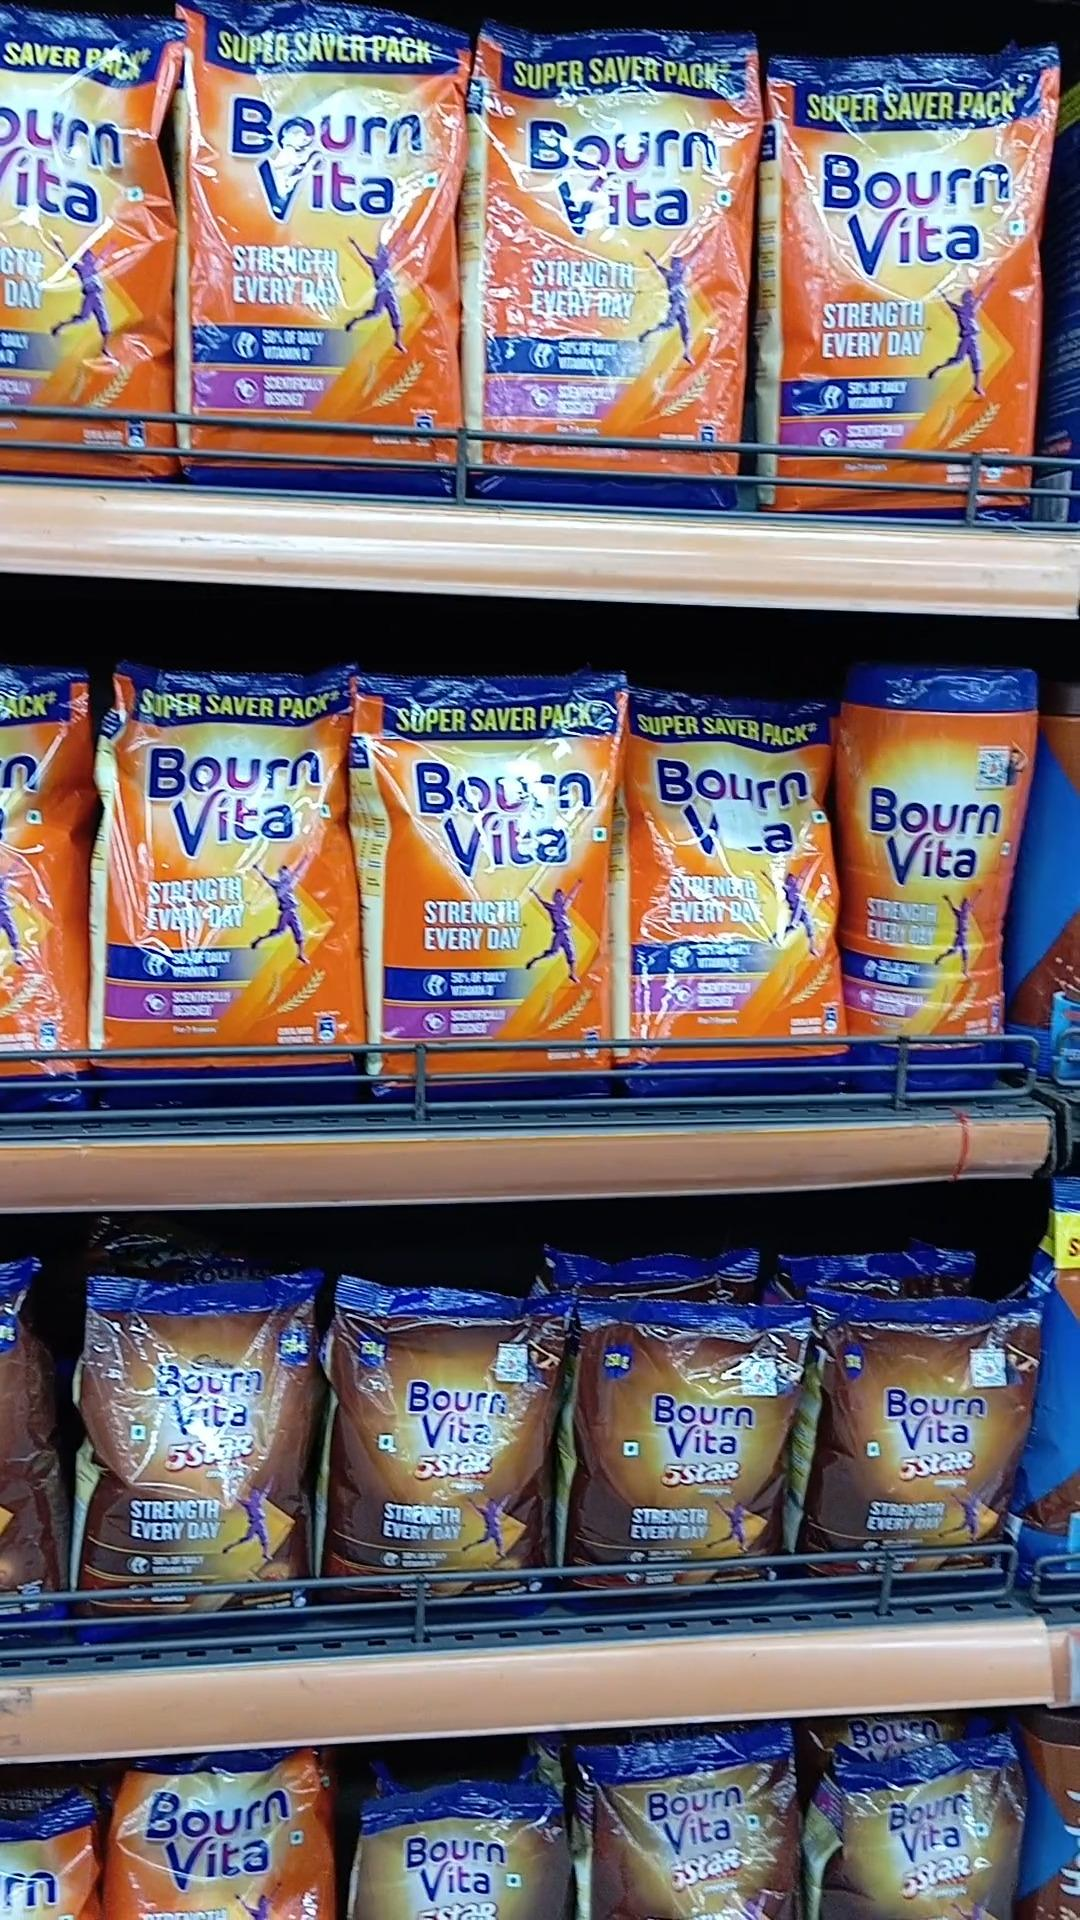BOURN_VITA_1_KG_JAR: (857, 657, 1007, 1095)
BOURN_VITA_1_KG_POUCH: (191, 1, 460, 495), (769, 54, 1039, 527), (493, 24, 744, 509), (113, 670, 357, 1124), (364, 678, 613, 1109), (634, 683, 849, 1105), (1, 0, 169, 488)
BOURN_VITA_FIVE_STAR_MAGIC_500_G_POUCH: (595, 1737, 793, 1920), (839, 1750, 1033, 1920)
BOURN_VITA_FIVE_STAR_MAGIC_750_G_POUCH: (78, 1278, 297, 1634), (327, 1274, 551, 1618), (579, 1304, 795, 1613), (824, 1294, 1031, 1586)
